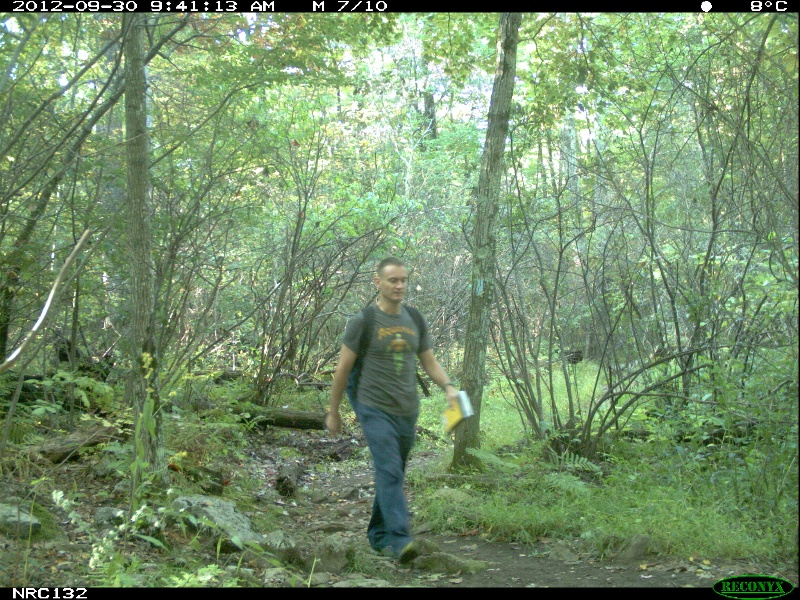human: (319, 250, 465, 569)
human face: (372, 266, 410, 308)
human legs: (352, 398, 429, 561)
